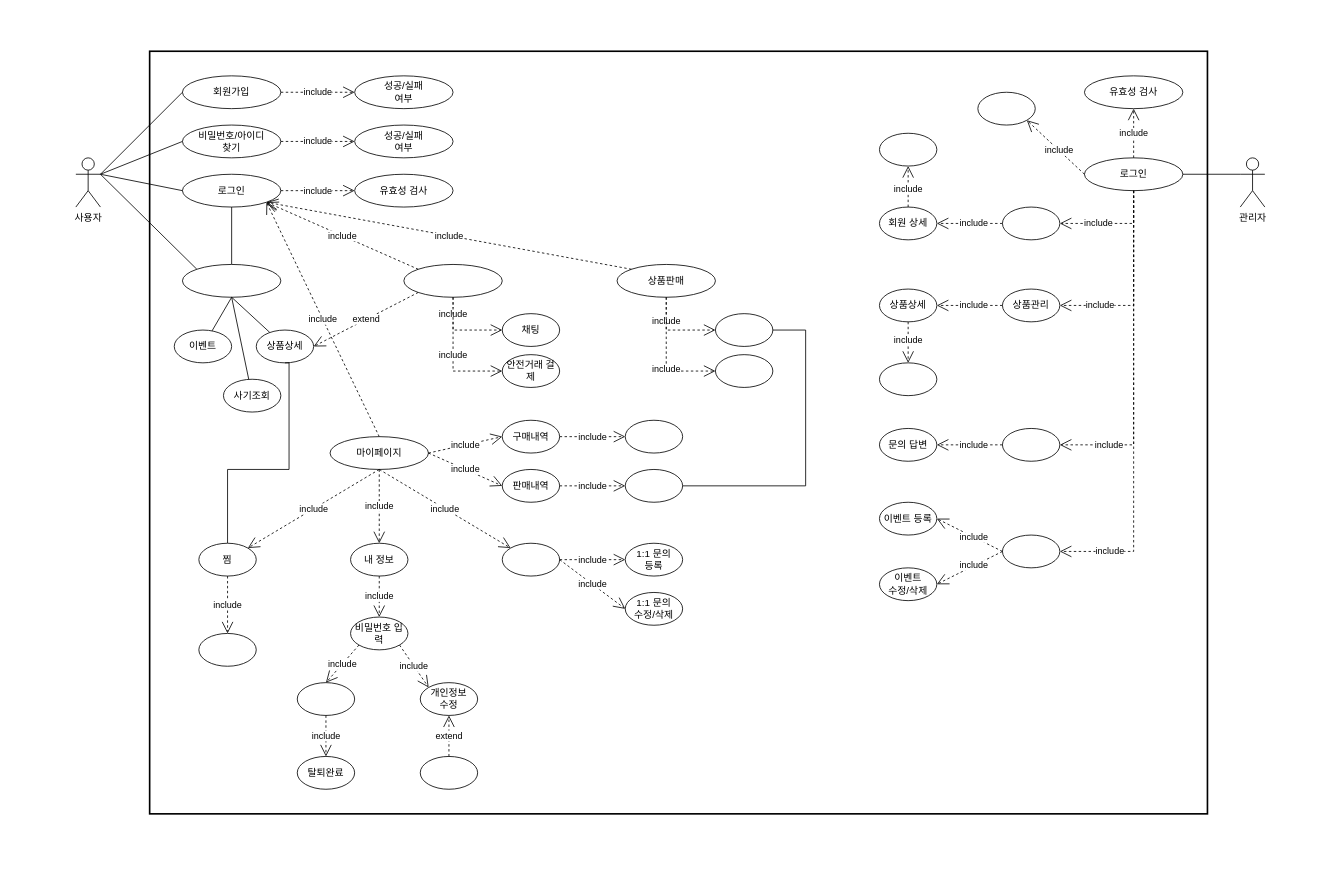
This 1333x873 diagram has some shape labels left out. The shapes that lost their labels are listed below. From the top down, each one's centre as x and y in pixels, then its label:
pixel 1006 108: 대시보드
pixel 908 149: 회원 삭제/정지
pixel 1031 223: 회원관리
pixel 231 280: 메인화면
pixel 452 280: 상품거래
pixel 744 329: 상품수정/삭제
pixel 744 370: 상품등록
pixel 908 379: 상품삭제
pixel 653 436: 안전거래 취소
pixel 1031 444: 문의내역
pixel 653 485: 판매완료
pixel 530 559: 1:1 문의
pixel 1031 551: 이벤트 관리
pixel 227 649: 찜상품 삭제
pixel 325 698: 탈퇴
pixel 448 772: 비밀번호 확인 및 수정
